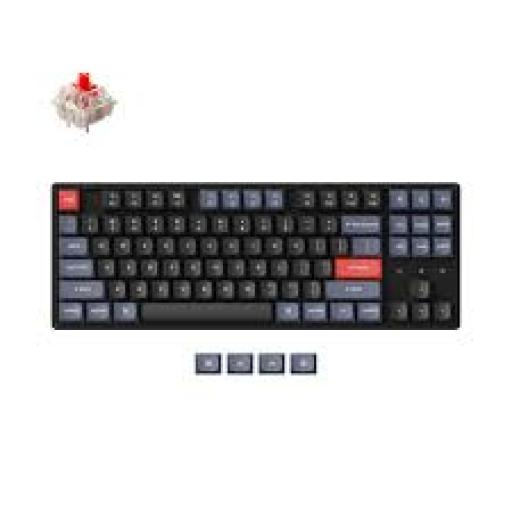keyboard: (50, 182, 457, 328)
